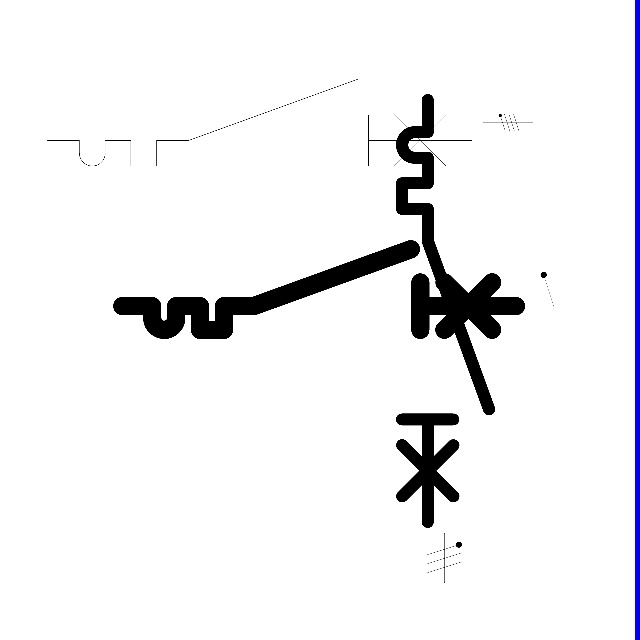interruptor_termomagnetico: (36, 68, 482, 177), (391, 89, 499, 533), (112, 239, 526, 340)
